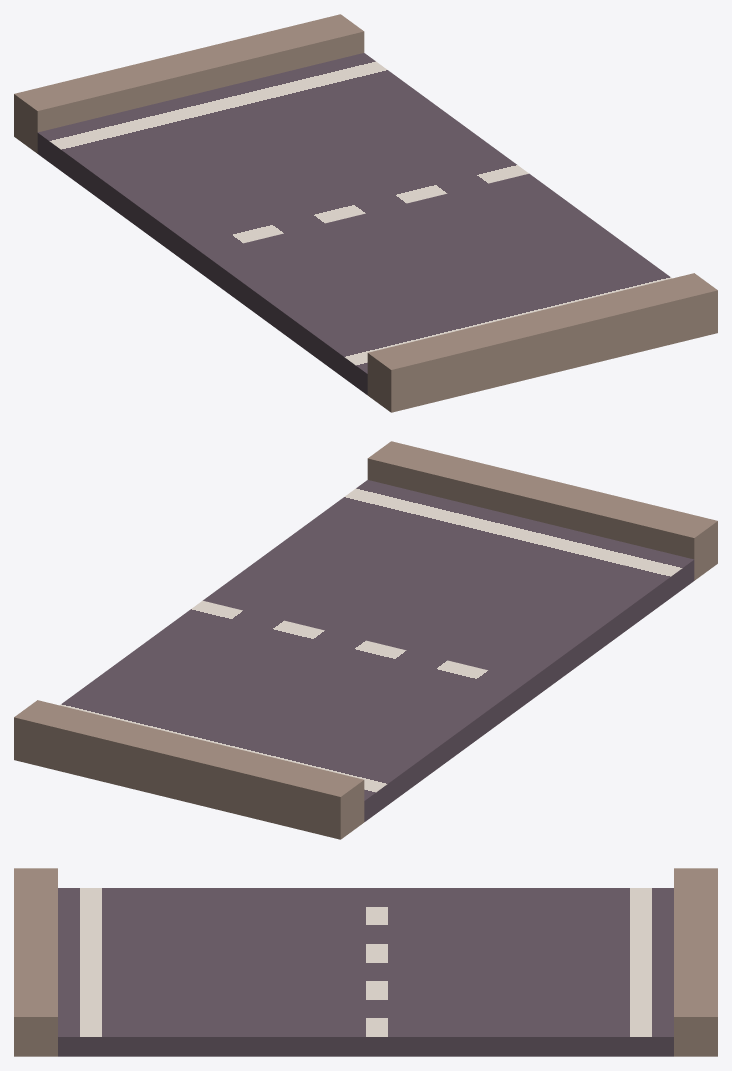
The model's file is street.obj.
The picture shows the model from 3 angles, top to bottom: view 1: azimuth 30°, elevation 25°; view 2: azimuth 150°, elevation 25°; view 3: azimuth 270°, elevation 25°; orthographic projection. The views are drawn at different scales.
Visible parts, largest first — view 1: street, pavement; view 2: street, pavement; view 3: street, pavement.
Part boxes in pixels (<box>): street: <box>37,53,671,394</box>; pavement: <box>14,14,717,412</box>; street: <box>60,480,694,821</box>; pavement: <box>14,441,717,839</box>; street: <box>58,888,673,1056</box>; pavement: <box>14,868,717,1056</box>.
Bounding box in the file's own units: 1 × 0.125 × 2.
